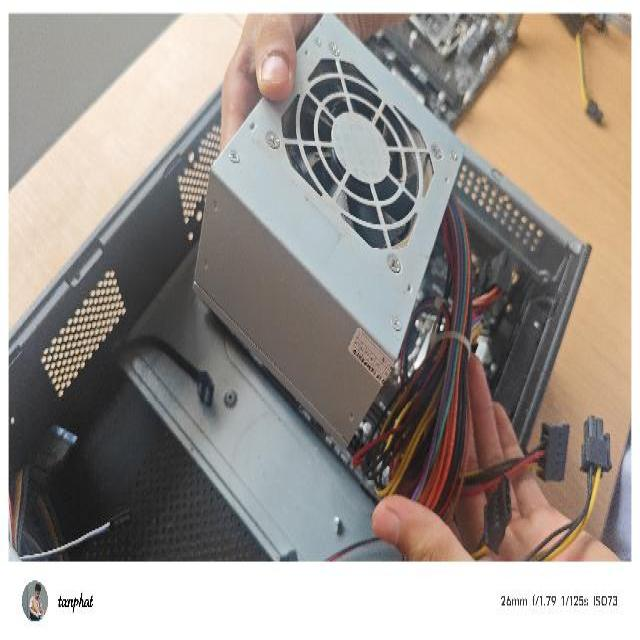PSU: (188, 15, 466, 448)
